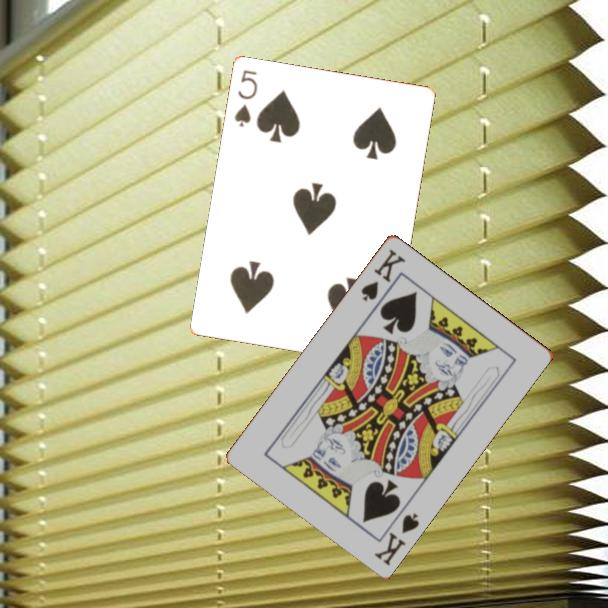s05: (231, 67, 261, 130)
s13: (357, 245, 409, 304), (371, 509, 422, 568)
